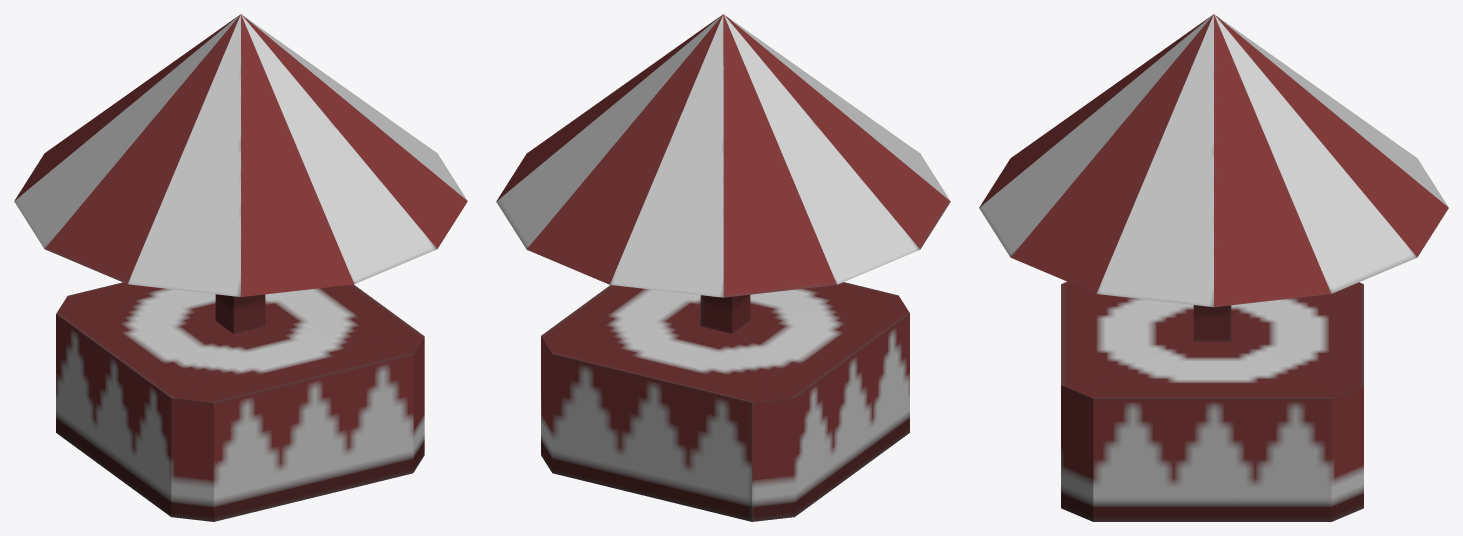
Rendered from obj_music_box.fbx.
3 views of the same model, side by side, from view 1: azimuth 30°, elevation 25°; view 2: azimuth 150°, elevation 25°; view 3: azimuth 270°, elevation 25° (orthographic). The views are drawn at different scales.
Parts seen in each view (by area): view 1: obj_music_box_top, obj_music_box_botton; view 2: obj_music_box_top, obj_music_box_botton; view 3: obj_music_box_top, obj_music_box_botton.
Part boxes in pixels (x1,y1,x2,y2): obj_music_box_top: [14, 14, 467, 296]; obj_music_box_botton: [56, 282, 424, 521]; obj_music_box_top: [496, 14, 950, 297]; obj_music_box_botton: [541, 282, 909, 521]; obj_music_box_top: [979, 14, 1448, 307]; obj_music_box_botton: [1061, 281, 1363, 521].
Size of the model in its own units: 51.46 by 53.72 by 51.46.
